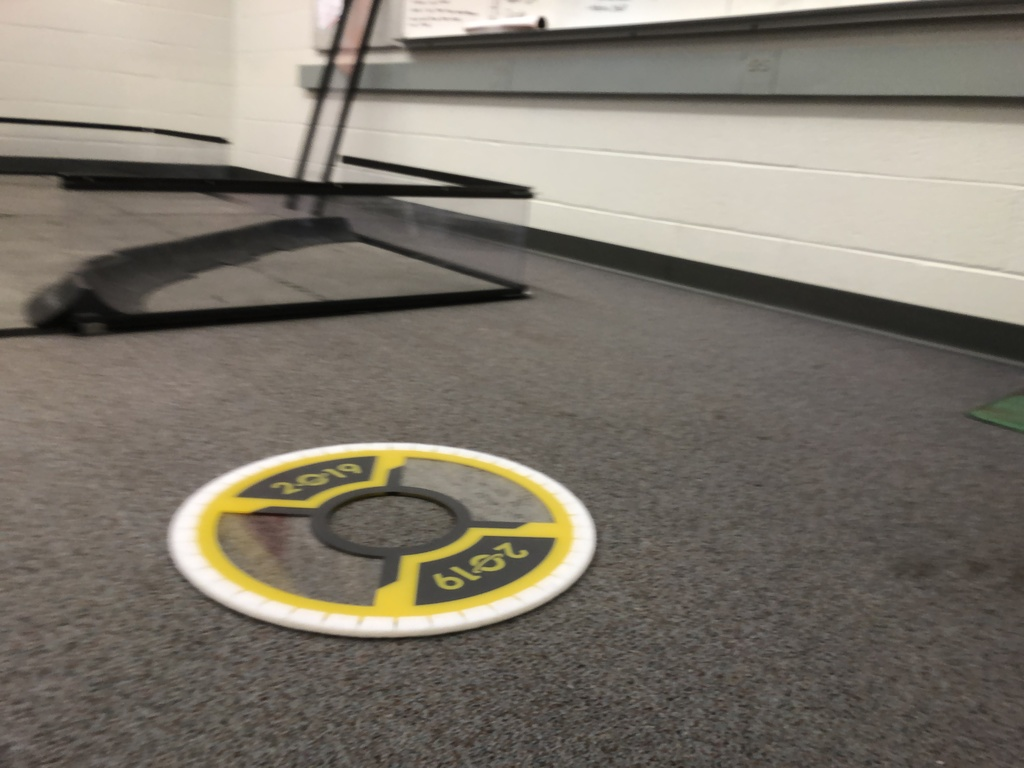hatch_panel: (154, 428, 620, 636)
